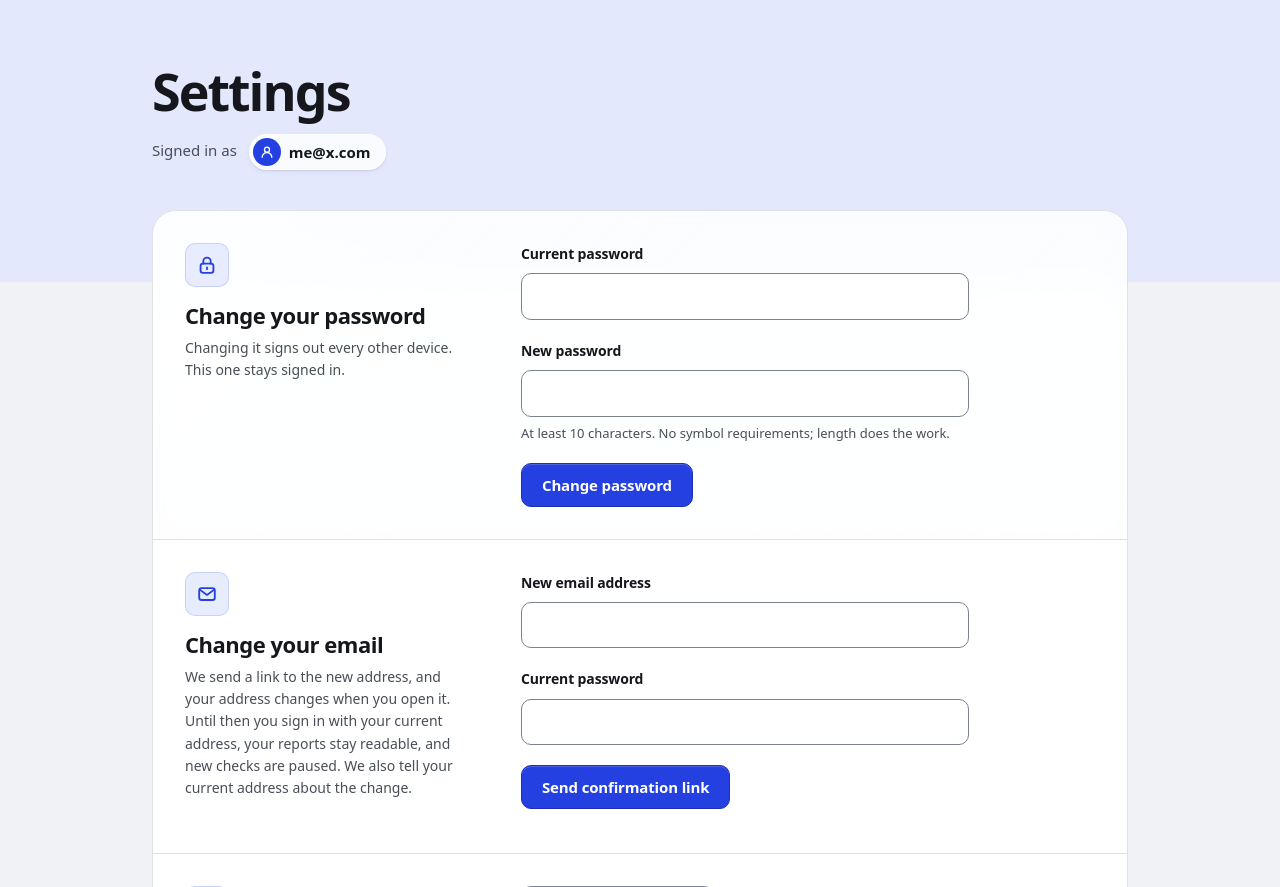
Test: SettingsPage (FR-7.1, FR-1.9, FR-4.5, FR-4.6) › change password › puts a wrong-current-password answer on the current-password field
This screenshot has width=1280, height=887.
Type "wrong-password" into the password field labelled "Current password" next to "Change your password".
click(745, 297); type("wrong-password")  # box 521,274 -> 969,320
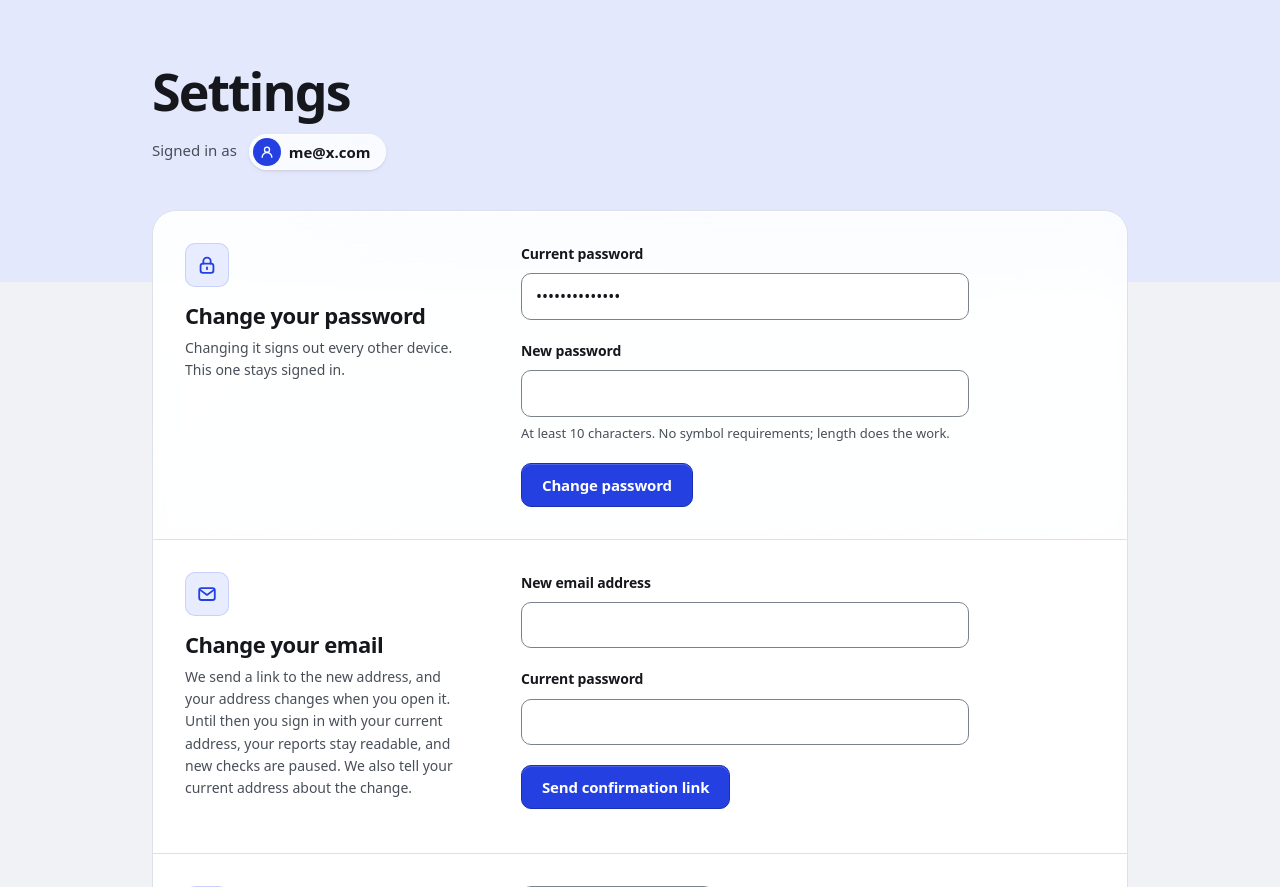
Type "brand-new-password" into the password field labelled "New password".
click(745, 394); type("brand-new-password")  # box 521,370 -> 969,417
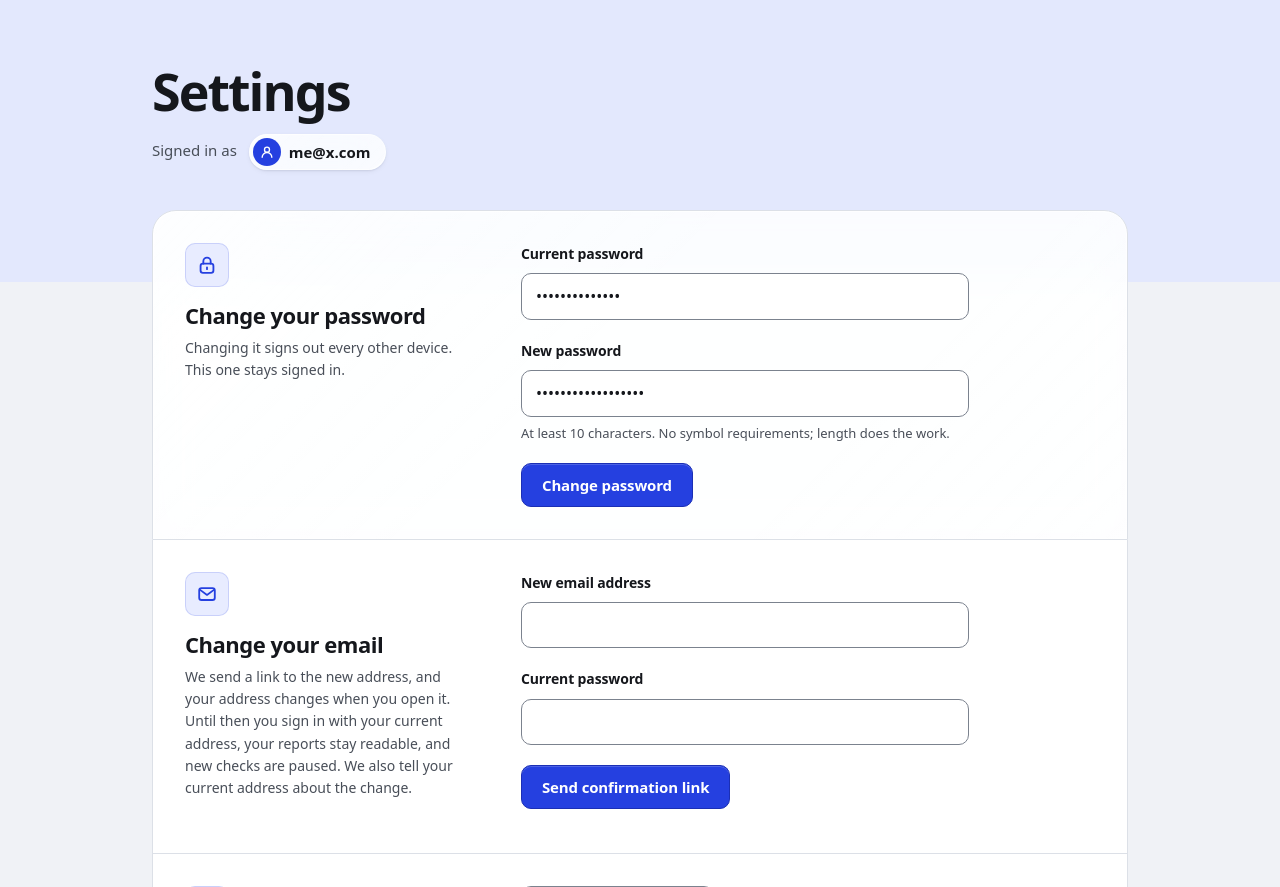
Click the button "Change password".
click(607, 485)  # box 521,463 -> 693,507
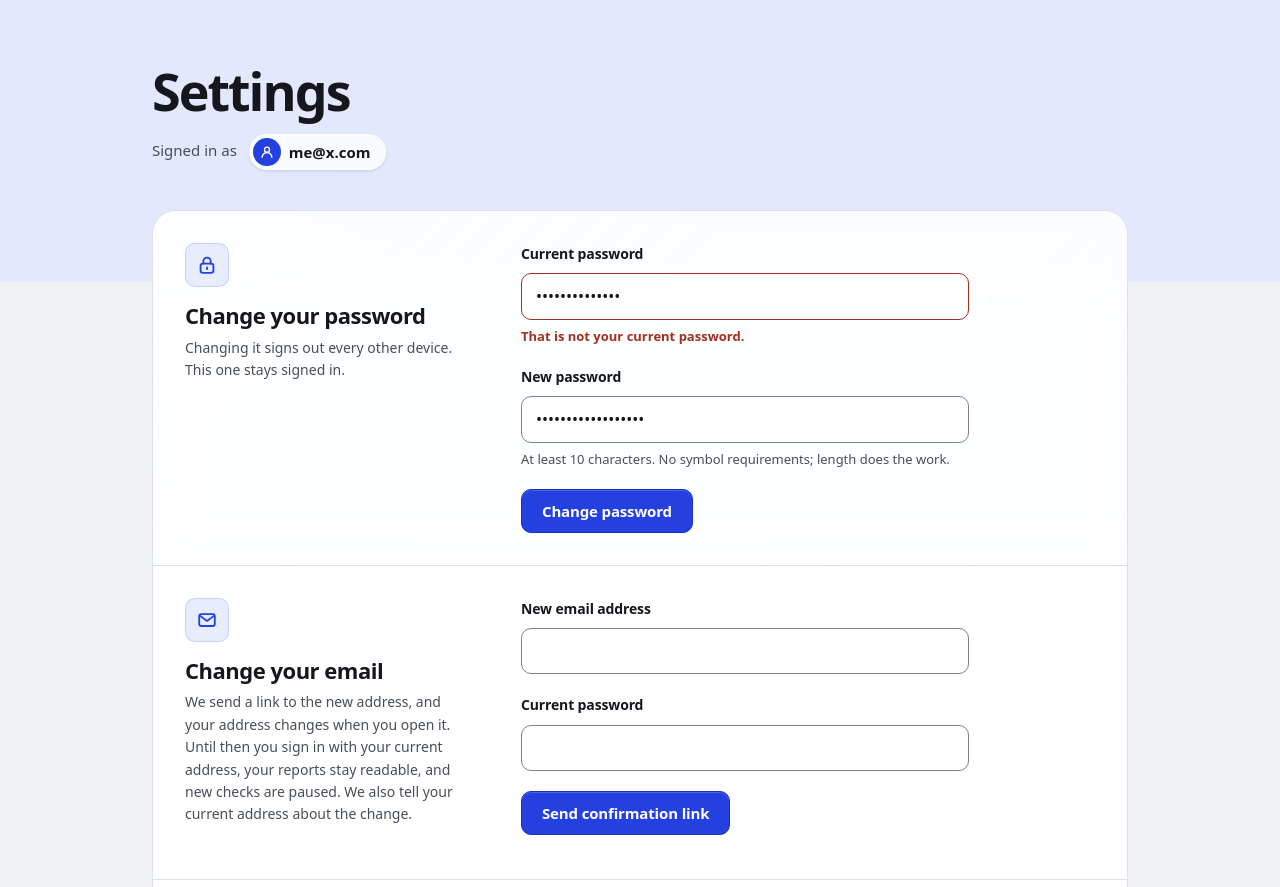
expect the text "That is not your current password." is shown: met, box 521,327 -> 744,345
